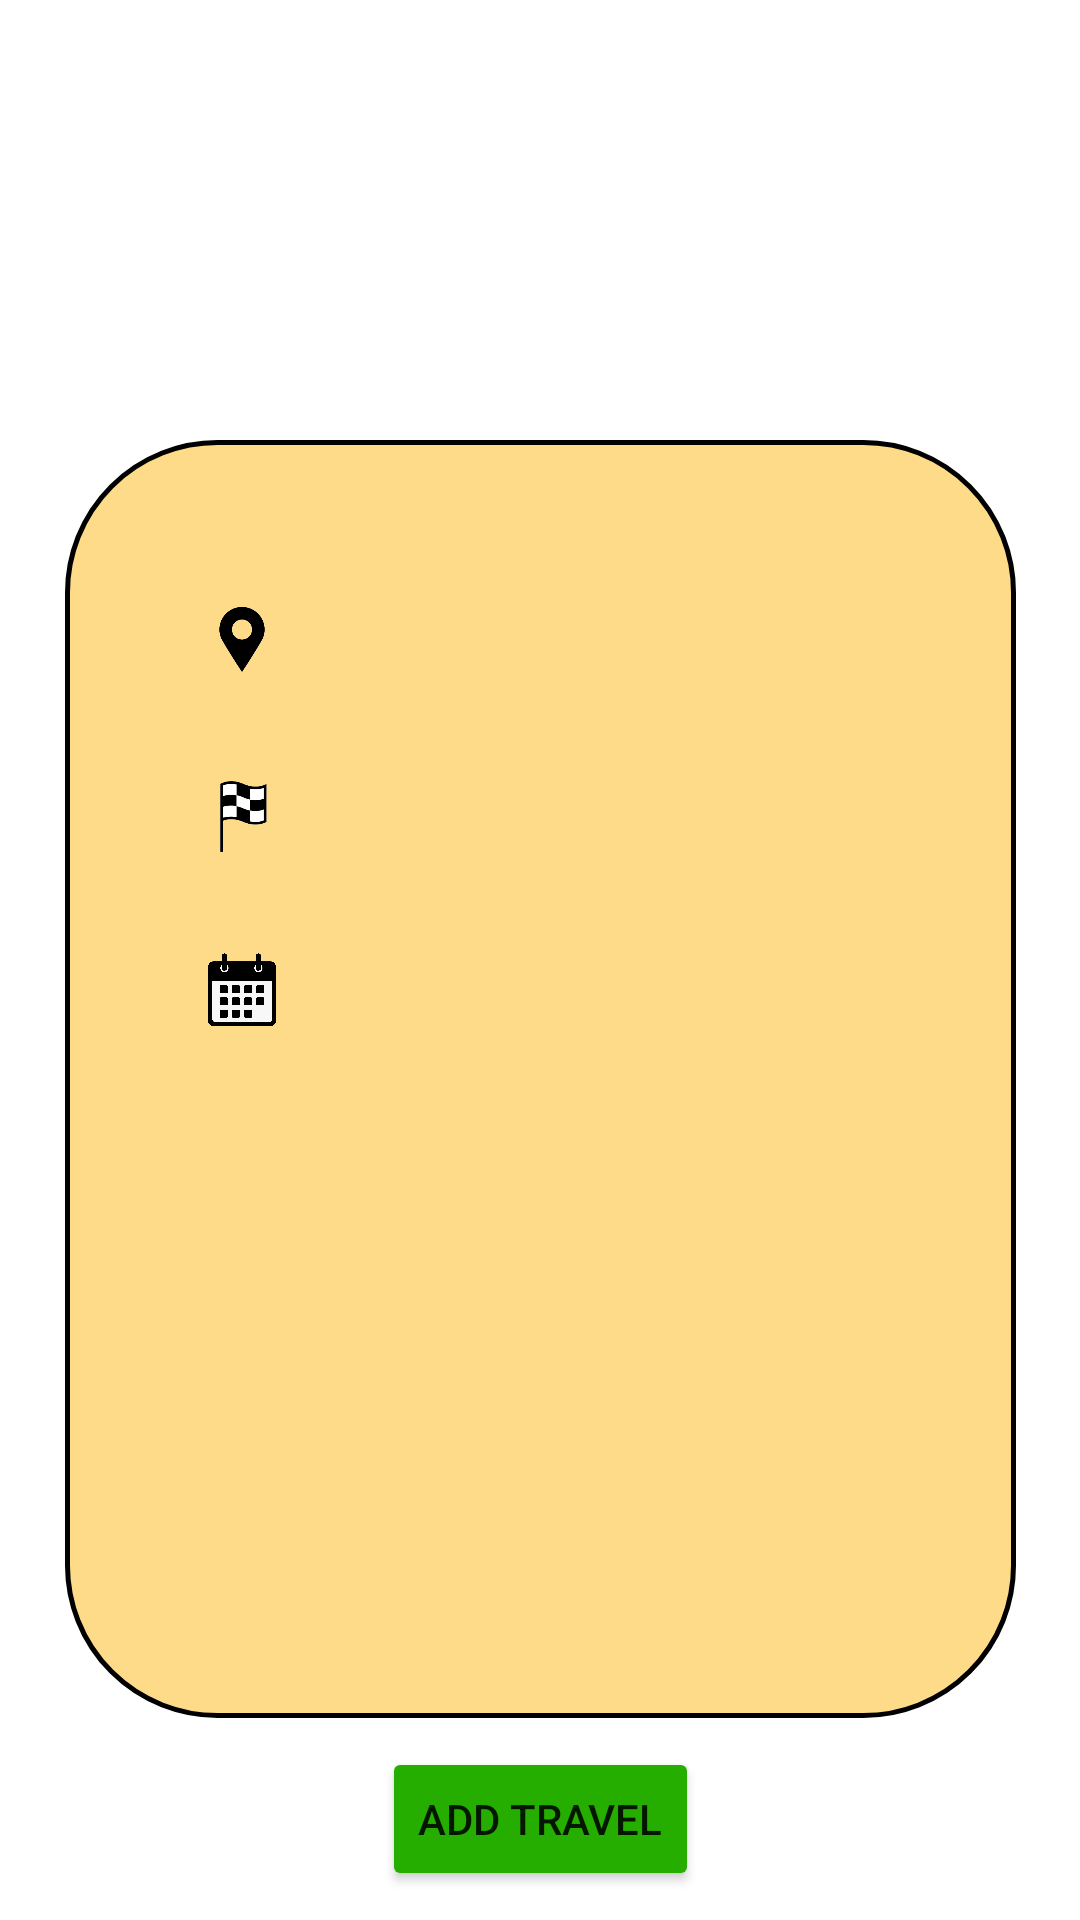

Icon click points for this 1080 x 1920 phone screenshot, format point (x, y):
calender: point (242, 989)
finish: point (243, 816)
location: point (242, 639)
